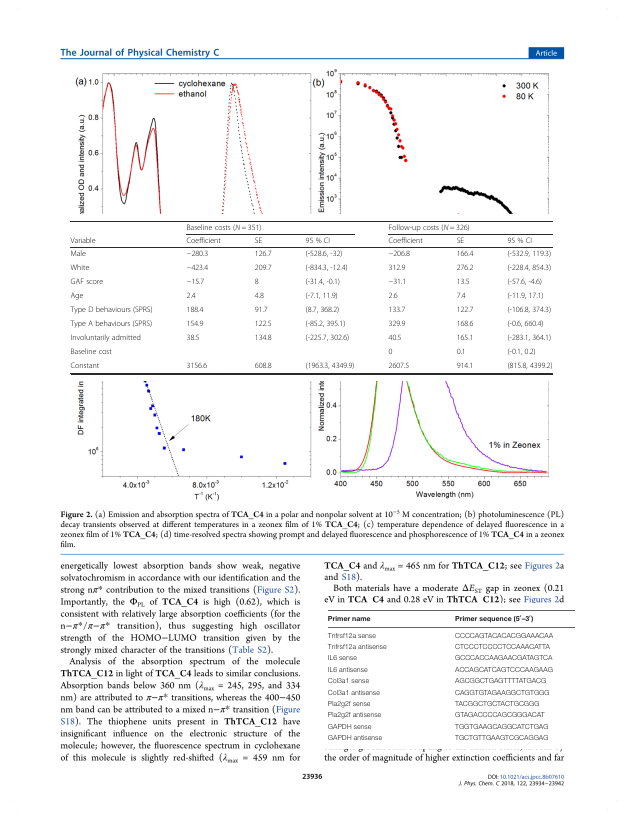borderless: (69, 219, 552, 373), (326, 608, 576, 743)
cell: (454, 632, 554, 641), (454, 666, 554, 675), (454, 643, 550, 652), (454, 734, 549, 743), (69, 305, 153, 315), (69, 319, 153, 329), (454, 677, 547, 686), (454, 655, 553, 663), (454, 700, 540, 709), (454, 689, 550, 697), (454, 723, 549, 731), (387, 223, 471, 232), (69, 333, 142, 343), (454, 712, 545, 720), (186, 223, 262, 232), (454, 615, 534, 623), (327, 643, 387, 652), (327, 734, 383, 743), (305, 361, 355, 371), (506, 361, 553, 371), (506, 249, 552, 259), (506, 263, 552, 273), (506, 305, 552, 315), (506, 333, 552, 343), (305, 333, 350, 343), (327, 632, 376, 641), (69, 347, 113, 357), (327, 712, 382, 720), (305, 263, 348, 273), (327, 689, 380, 697), (305, 319, 346, 329), (327, 700, 371, 709), (327, 677, 370, 686), (305, 249, 343, 259), (506, 291, 544, 301), (506, 319, 544, 329), (387, 236, 424, 246), (506, 277, 543, 287), (327, 666, 368, 675), (186, 236, 222, 246), (305, 277, 341, 287), (327, 723, 372, 731), (327, 615, 371, 623), (69, 277, 104, 287), (305, 305, 340, 315), (305, 291, 339, 301), (506, 347, 537, 357), (69, 361, 100, 371), (69, 236, 96, 246), (506, 236, 533, 246), (305, 236, 331, 246), (387, 249, 411, 259), (327, 655, 357, 663), (186, 249, 209, 259), (186, 263, 209, 273), (387, 361, 410, 371), (186, 361, 208, 371), (69, 263, 90, 273), (387, 277, 407, 287), (387, 263, 406, 273), (186, 277, 205, 287), (387, 305, 406, 315), (387, 319, 406, 329), (69, 249, 87, 259), (254, 249, 272, 259), (456, 249, 474, 259), (254, 263, 272, 273), (456, 263, 474, 273), (186, 305, 204, 315), (456, 305, 474, 315), (186, 319, 204, 329), (254, 319, 272, 329), (456, 319, 474, 329), (254, 333, 272, 343), (456, 333, 474, 343), (254, 361, 272, 371), (456, 361, 474, 371), (69, 291, 84, 301), (254, 305, 269, 315), (387, 333, 402, 343), (456, 277, 470, 287), (186, 333, 200, 343), (186, 291, 197, 301), (254, 291, 265, 301), (387, 291, 398, 301), (456, 291, 467, 301), (456, 347, 467, 357), (254, 236, 263, 246), (456, 236, 465, 246), (254, 277, 260, 287), (387, 347, 393, 357)
